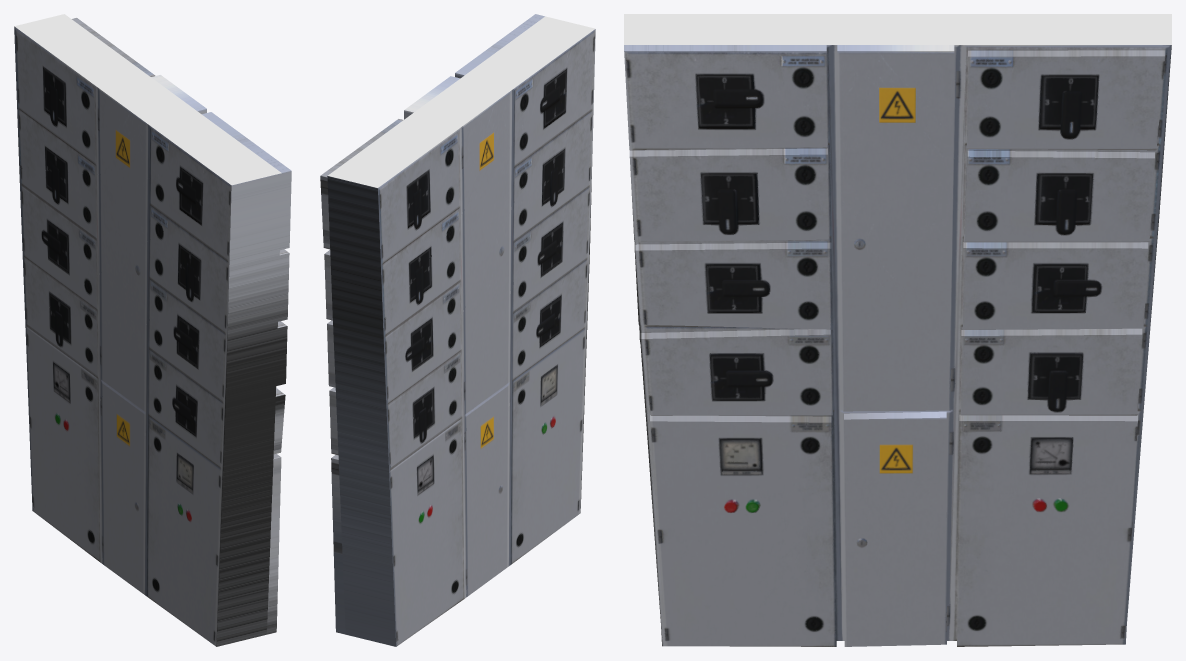
The model's file is panel1.fbx.
3 renders of one model, left to right at view 1: azimuth 30°, elevation 25°; view 2: azimuth 150°, elevation 25°; view 3: azimuth 270°, elevation 25°, orthographic. The views are drawn at different scales.
Visible parts, largest first — view 1: panel1; view 2: panel1; view 3: panel1.
Part boxes in pixels (bbox=[...]): panel1: bbox=[14, 14, 291, 646]; panel1: bbox=[320, 14, 595, 646]; panel1: bbox=[624, 14, 1171, 646].
Size of the model in its own units: 159 by 1193 by 993.
